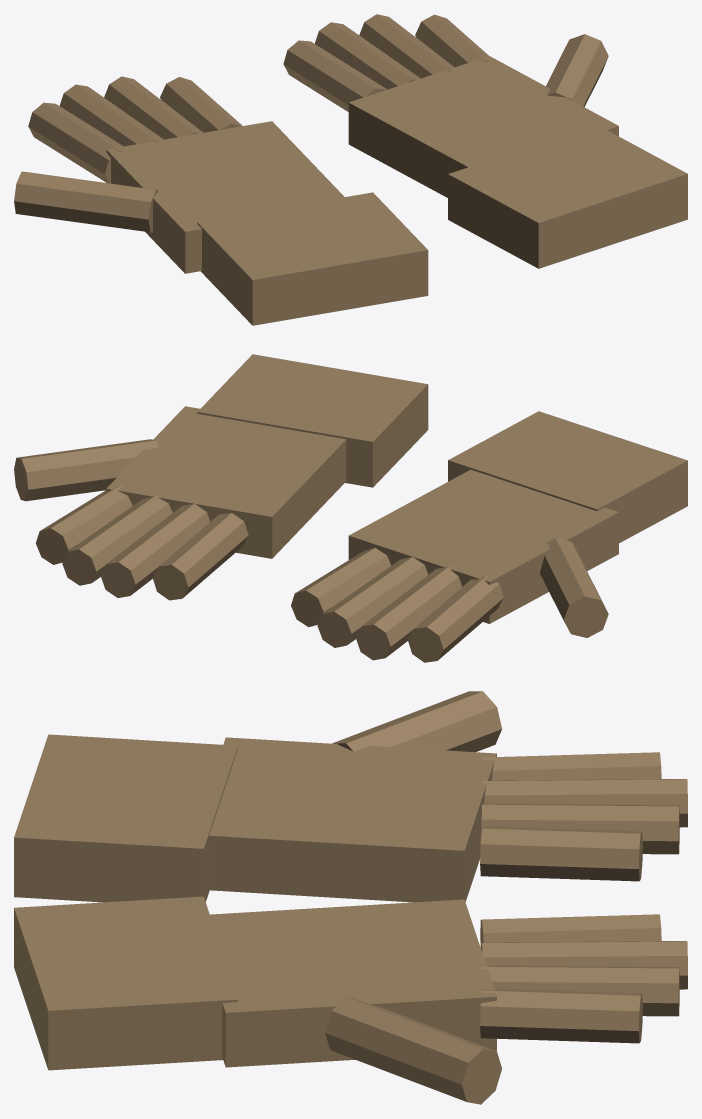
Rendered from Prop_Gloves.fbx.
The picture shows the model from 3 angles, top to bottom: view 1: azimuth 30°, elevation 25°; view 2: azimuth 150°, elevation 25°; view 3: azimuth 270°, elevation 25°; orthographic projection. The views are drawn at different scales.
Visible parts, largest first — view 1: Gloves_Leather; view 2: Gloves_Leather; view 3: Gloves_Leather.
Part boxes in pixels (<box>): Gloves_Leather: <box>14,14,687,325</box>; Gloves_Leather: <box>14,354,687,662</box>; Gloves_Leather: <box>14,691,687,1104</box>.
Bounding box in the file's own units: 0.3263 × 0.025 × 0.2461.
